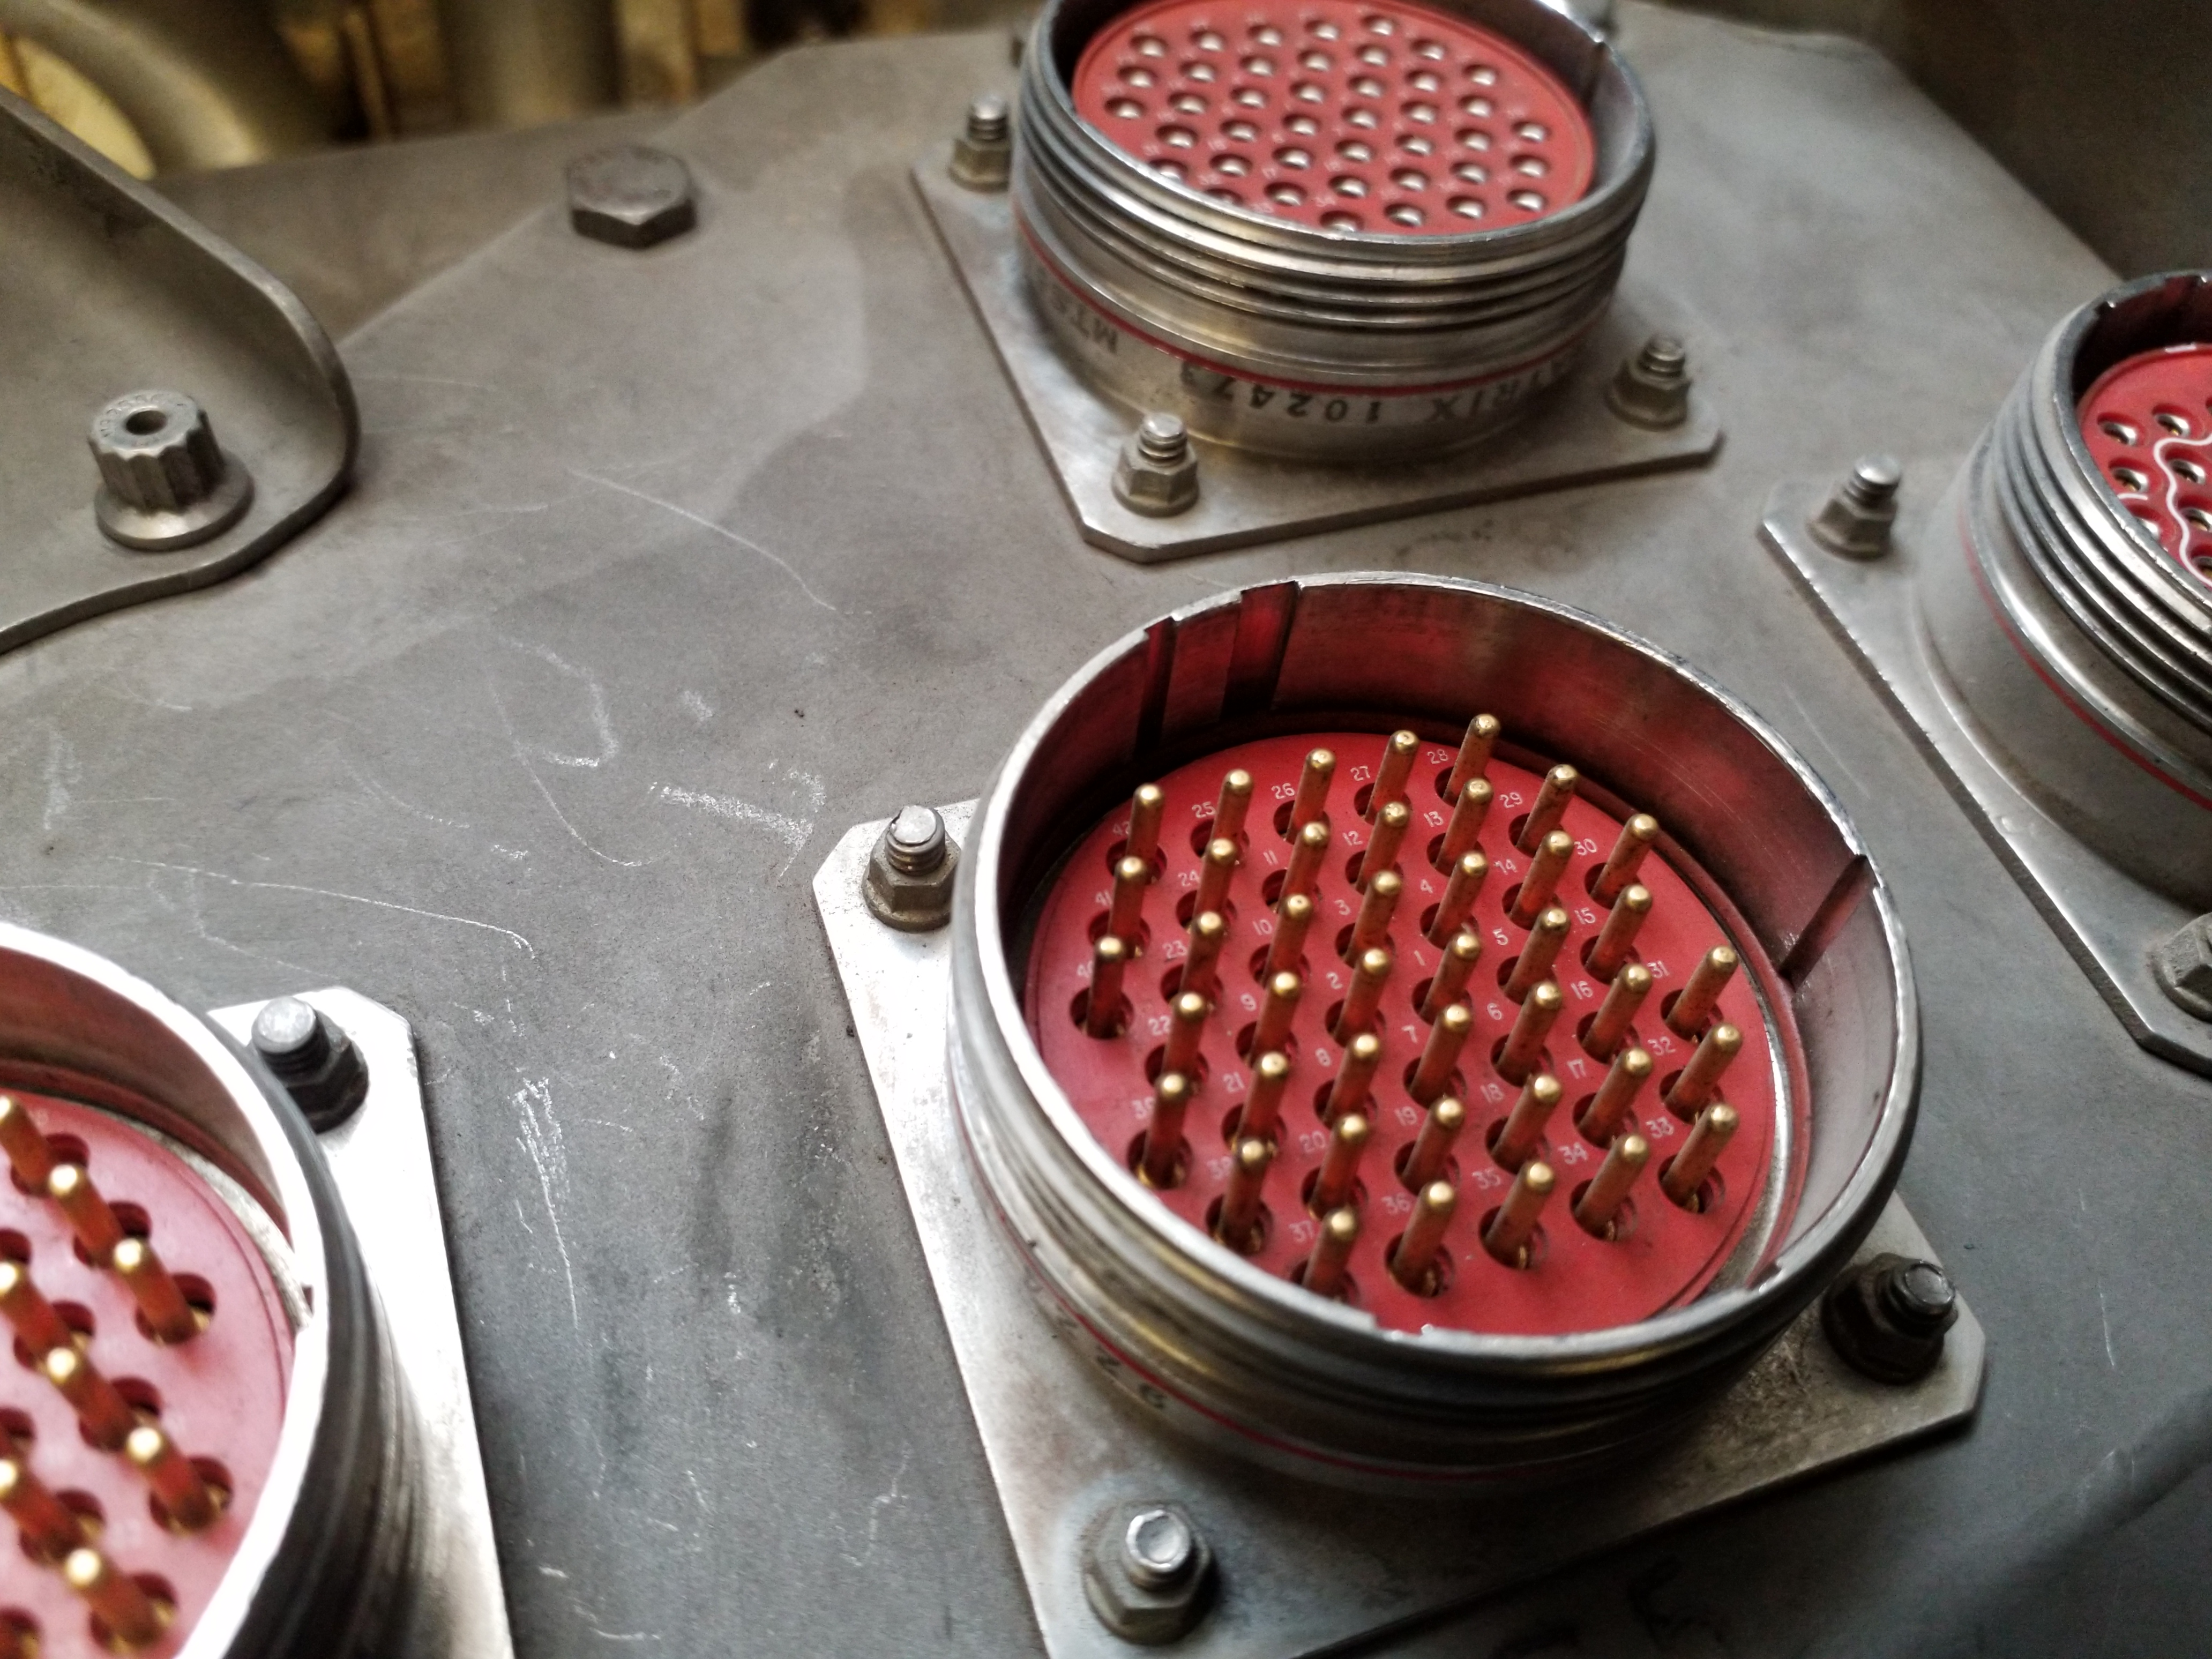inletnumbers: (1021, 0, 1667, 277)
inletround: (2048, 237, 2212, 653)
outlet: (967, 544, 1893, 1399), (2, 915, 381, 1659)
